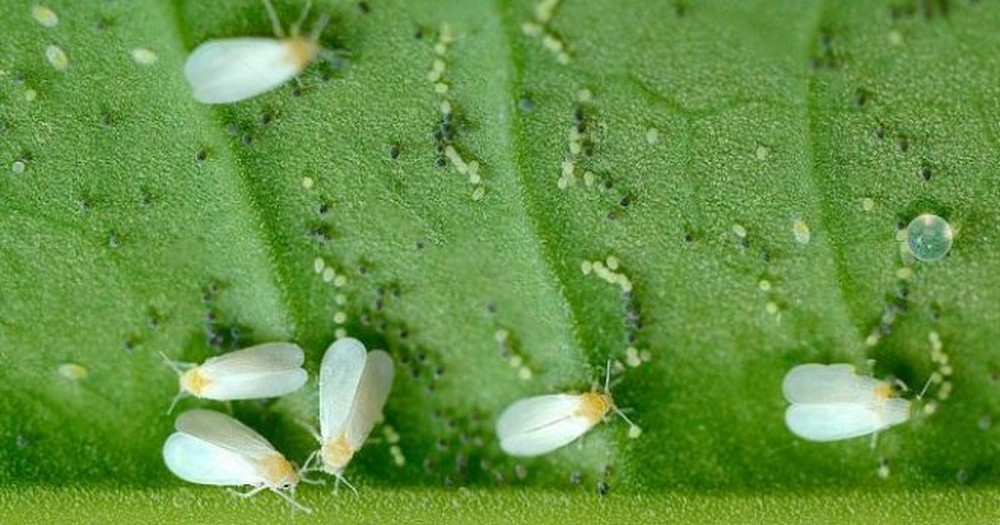Mosca Blanca: (176, 1, 348, 130), (132, 406, 327, 514), (294, 330, 407, 506), (476, 362, 644, 470), (772, 351, 937, 456), (154, 328, 319, 418)
